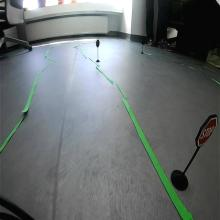stop: (194, 114, 218, 148)
